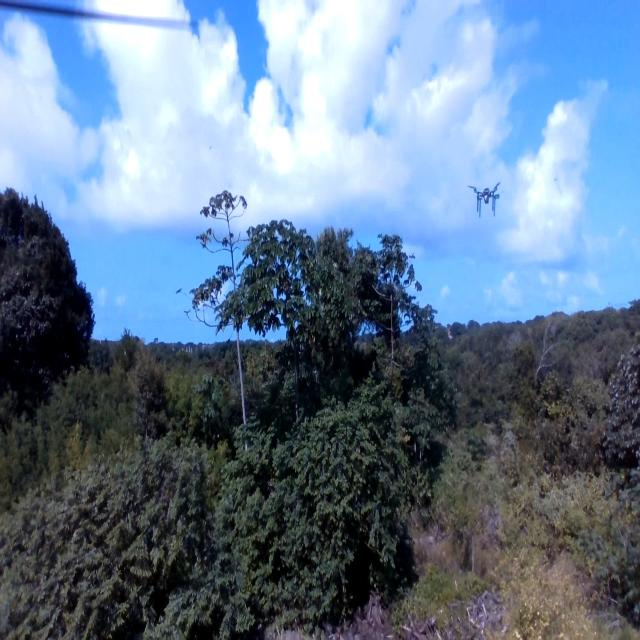-uav-: (464, 172, 515, 231)
